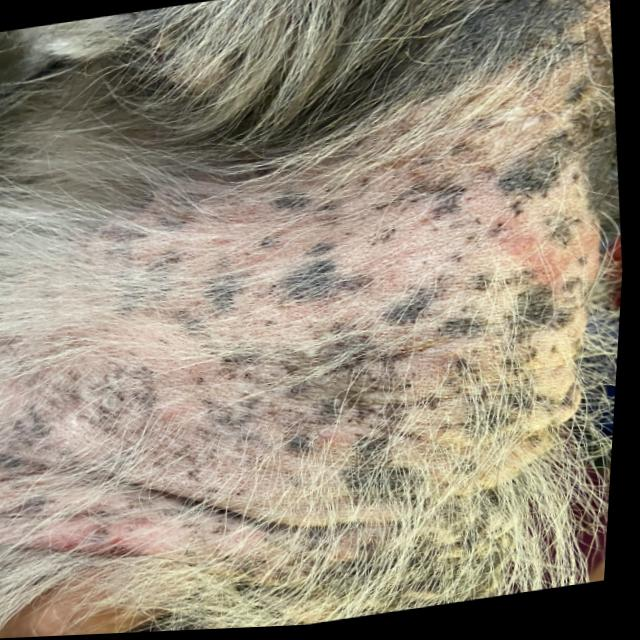demodicosis: (46, 208, 384, 489), (400, 104, 588, 344), (47, 484, 209, 575)
